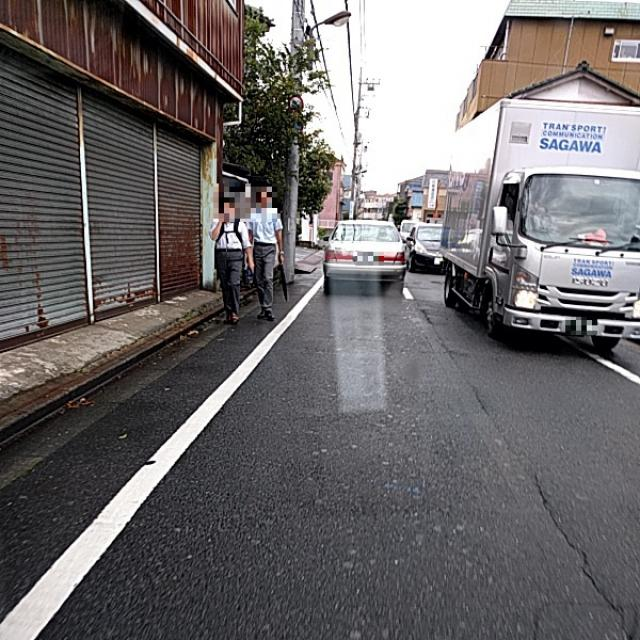pothole: (405, 441, 590, 579)
